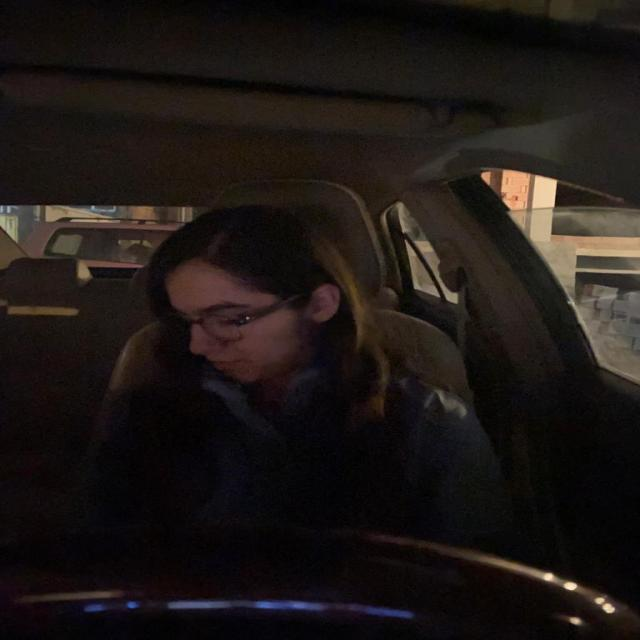drowsy: (140, 228, 346, 398)
